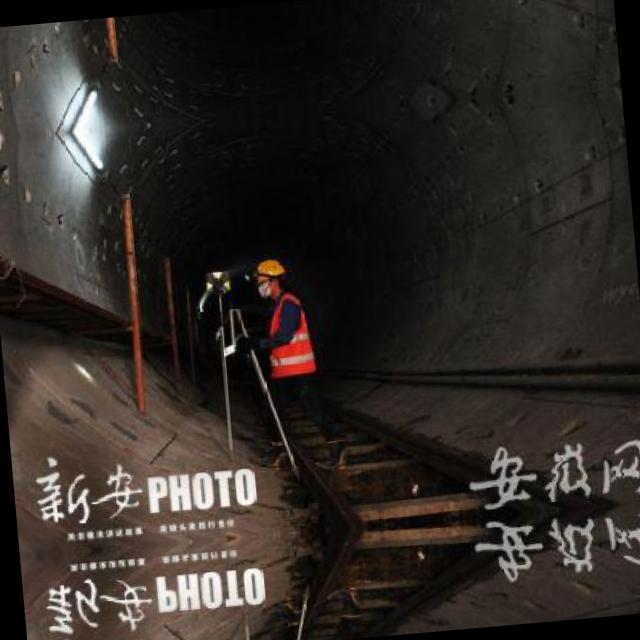helmet: (250, 252, 290, 294)
